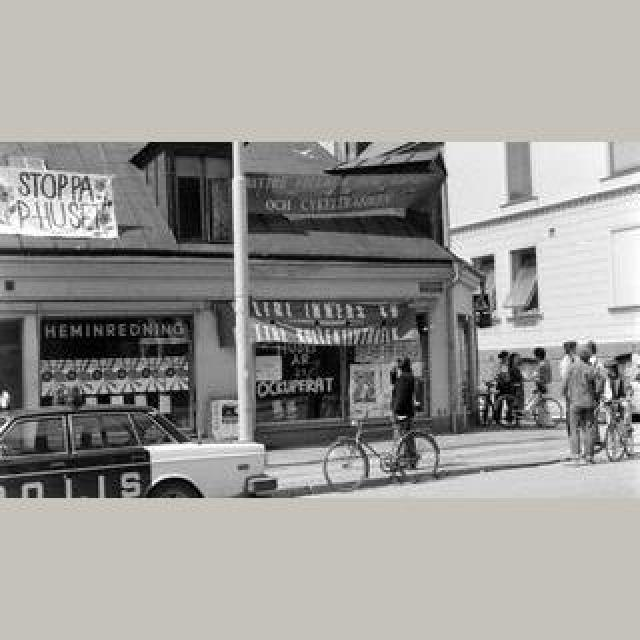Car-Bike: (2, 404, 268, 498)
MC-Bike: (600, 358, 634, 454), (518, 346, 552, 420), (390, 356, 416, 422), (0, 386, 12, 410)
Person: (322, 412, 444, 492), (494, 380, 566, 430), (600, 400, 636, 462)
